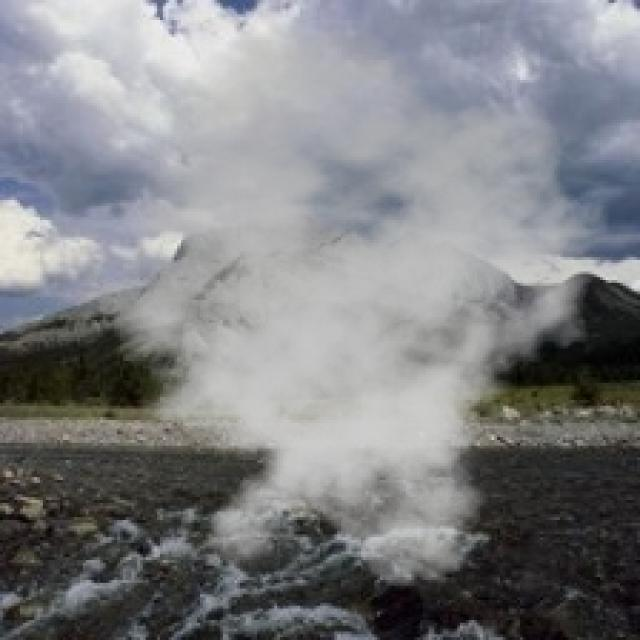smoke: (54, 23, 623, 591)
